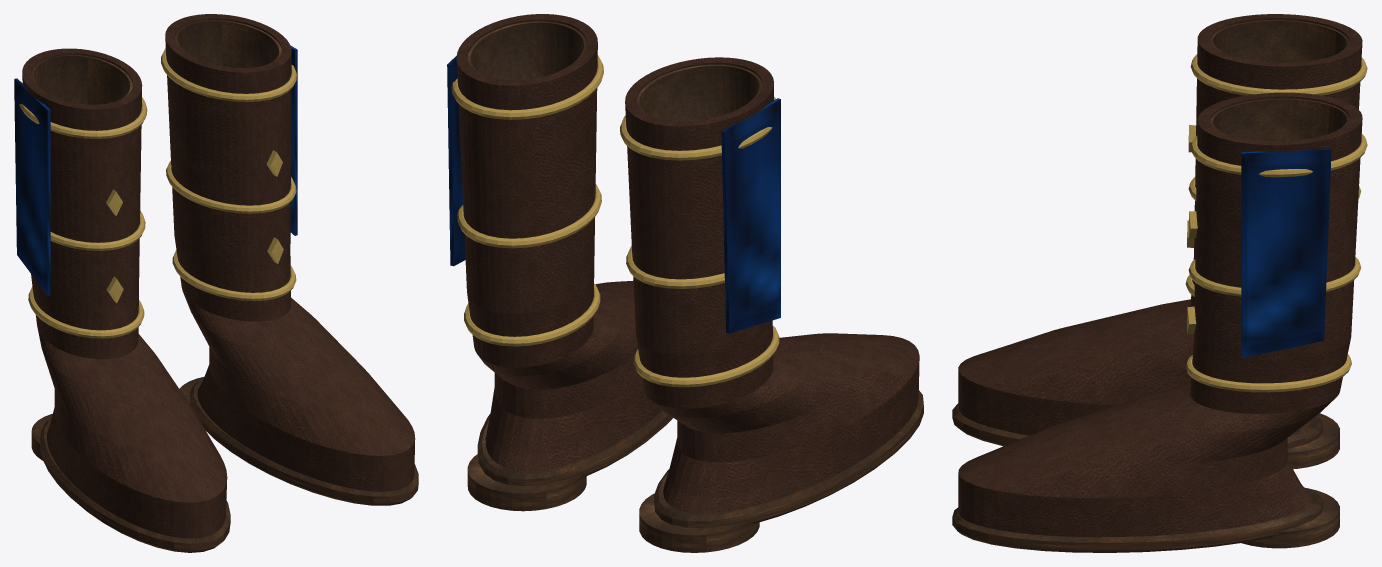
Rendered from magic.obj.
3 renders of one model, left to right at view 1: azimuth 30°, elevation 25°; view 2: azimuth 150°, elevation 25°; view 3: azimuth 270°, elevation 25°, orthographic. The views are drawn at different scales.
Visible parts, largest first — view 1: right_upper, left_upper, left_blue_cloth, left_lining, right_lining, right_sole, left_sole, right_band2, right_band1, right_band0, left_band0, right_blue_cloth (+2 smaller); view 2: left_upper, right_upper, left_blue_cloth, right_lining, left_lining, left_sole, right_sole, right_heel, left_heel, right_blue_cloth, right_band2, right_band1 (+4 smaller); view 3: right_upper, left_upper, right_blue_cloth, right_sole, left_lining, right_lining, right_heel, right_band0, left_sole, left_band2, left_heel, right_band2 (+1 smaller).
Part boxes in pixels (x1,y1,x2,y2): right_upper: (165, 14, 415, 491); left_upper: (22, 48, 227, 538); left_blue_cloth: (14, 78, 50, 295); left_lining: (31, 54, 132, 104); right_lining: (175, 20, 281, 67); right_sole: (190, 378, 418, 505); left_sole: (40, 418, 230, 552); right_band2: (161, 48, 296, 102); right_band1: (166, 161, 296, 213); right_band0: (172, 250, 296, 300); left_band0: (28, 286, 144, 338); right_blue_cloth: (290, 45, 297, 235); left_upper: (625, 57, 919, 513); right_upper: (456, 14, 661, 470); left_blue_cloth: (721, 98, 780, 333); right_lining: (467, 21, 586, 80); left_lining: (636, 64, 762, 120); left_sole: (654, 390, 923, 527); right_sole: (477, 411, 672, 486); right_heel: (467, 454, 586, 511); left_heel: (639, 493, 759, 552); right_blue_cloth: (447, 56, 465, 266); right_band2: (451, 55, 603, 119); right_band1: (457, 184, 601, 248); right_upper: (958, 92, 1362, 537); left_upper: (958, 14, 1362, 435); right_blue_cloth: (1241, 148, 1331, 357); right_sole: (952, 487, 1323, 552); left_lining: (1210, 19, 1349, 62); right_lining: (1210, 98, 1349, 141); right_heel: (1241, 488, 1339, 548); right_band0: (1185, 354, 1351, 392); left_sole: (952, 403, 1323, 448); left_band2: (1190, 54, 1367, 95); left_heel: (1287, 413, 1339, 469); right_band2: (1190, 133, 1367, 177).
Bounding box in the file's own units: 96.66 × 116 × 107.
4 materials, 4 textured.
